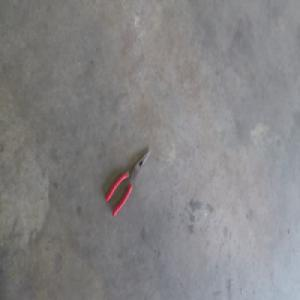Pliers: (104, 146, 150, 217)
